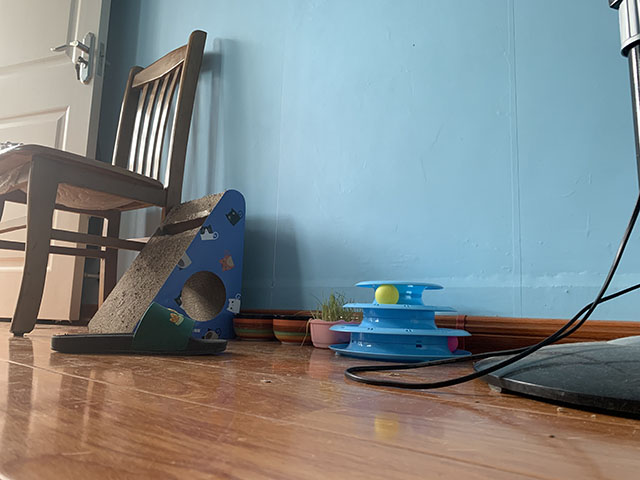slippers: (50, 301, 229, 357)
stool: (1, 28, 208, 338)
wire: (343, 192, 640, 393)
